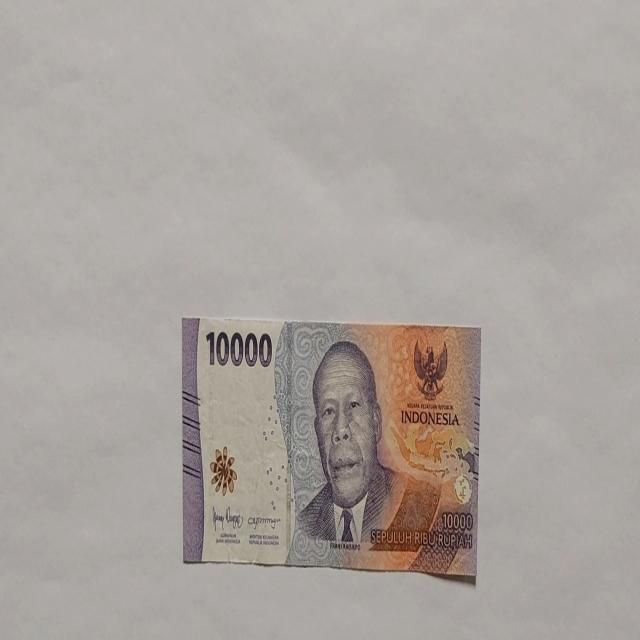sepuluh ribu rupiah: (182, 314, 482, 580)
